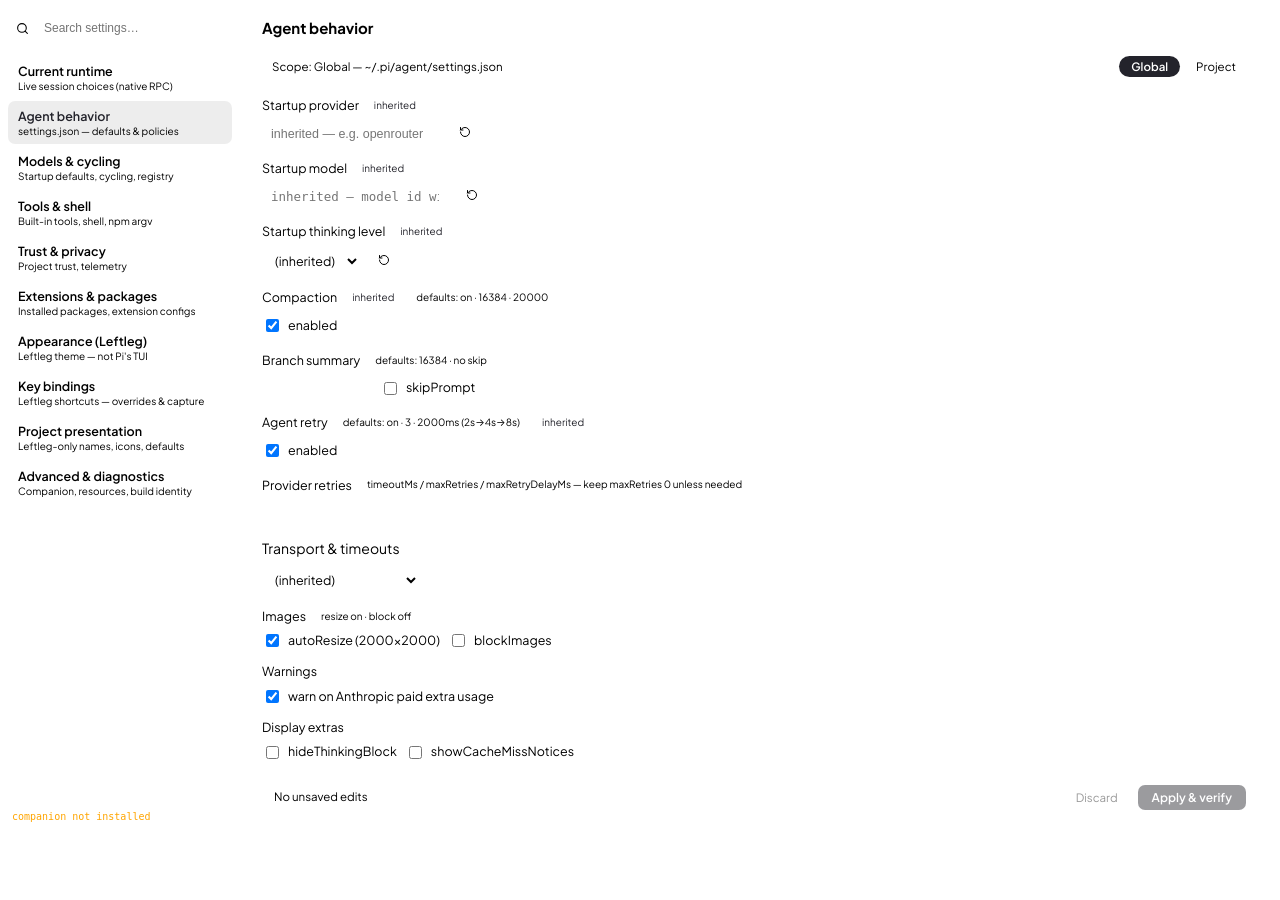
Scenario: runtime section gating (B2) › disables project-scoped runtime controls at the start view and says why
This screenshot has width=1280, height=900.
Click the button "Current runtime Live session choices (native RPC)".
click(120, 78)  # box top-left (8, 56), bottom-right (232, 99)
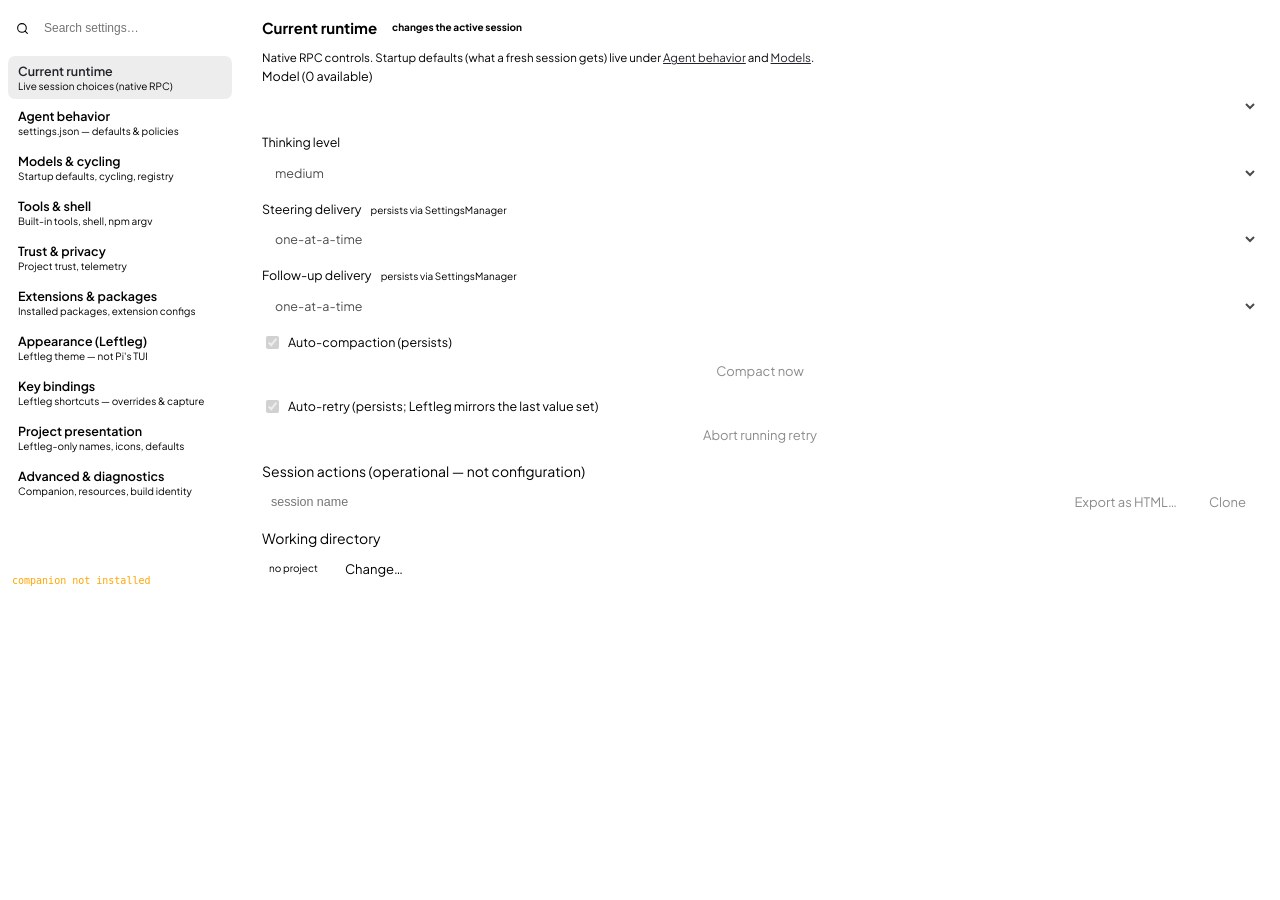
Check: the dropdown with id "rt-model" is disabled, box top-left (262, 91), bottom-right (1258, 121)
Check: the button "Compact now" is disabled, box top-left (262, 357), bottom-right (1258, 385)
Check: the button "Abort running retry" is disabled, box top-left (262, 421), bottom-right (1258, 449)
